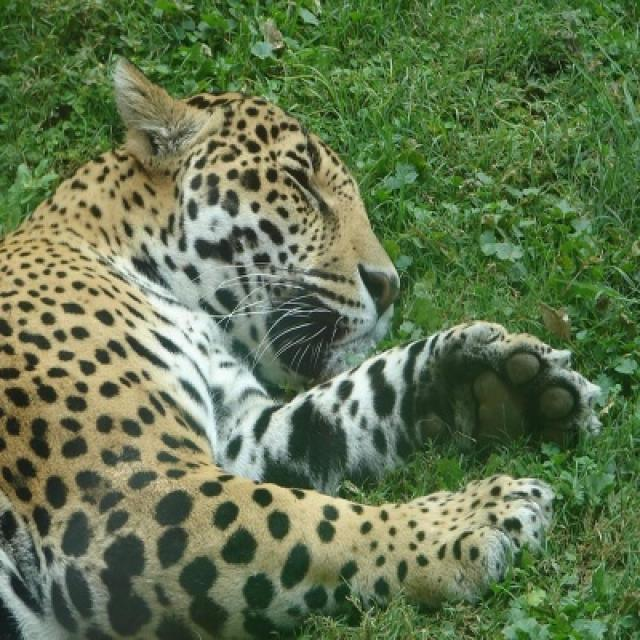Jaguar: (0, 36, 625, 638)
